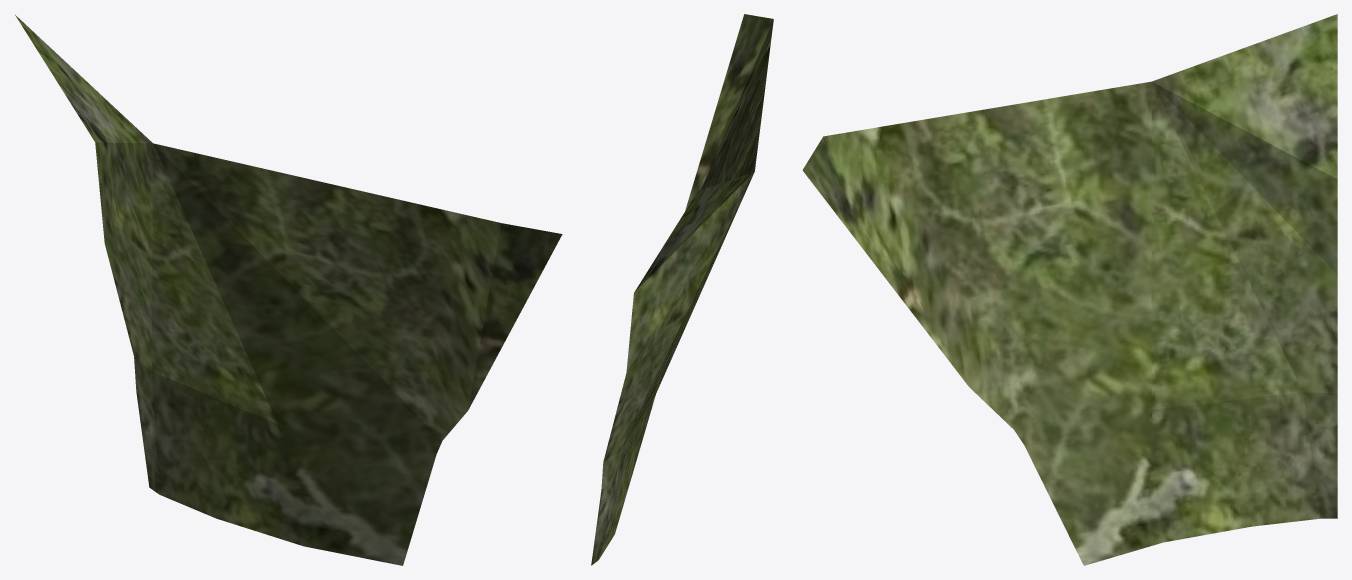
The picture shows the model from 3 angles, left to right: view 1: azimuth 30°, elevation 25°; view 2: azimuth 150°, elevation 25°; view 3: azimuth 270°, elevation 25°; orthographic projection. The views are drawn at different scales.
Size of the model in its own units: 1.02 by 2.01 by 2.19.
Materials: 1 (1 with a texture image).
